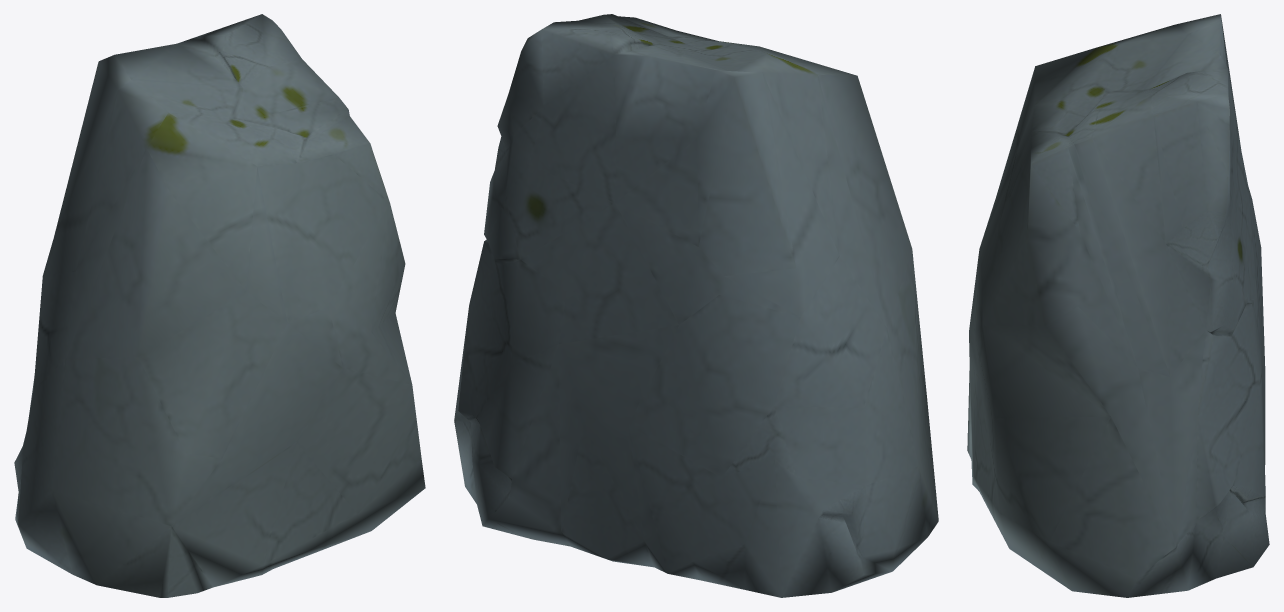
File: rock-boulder-02.glb
3 views of the same model, side by side, from view 1: azimuth 30°, elevation 25°; view 2: azimuth 150°, elevation 25°; view 3: azimuth 270°, elevation 25° (orthographic). The views are drawn at different scales.
Size of the model in its own units: 0.8652 by 0.9541 by 0.5762.
1 material, 1 textured.
